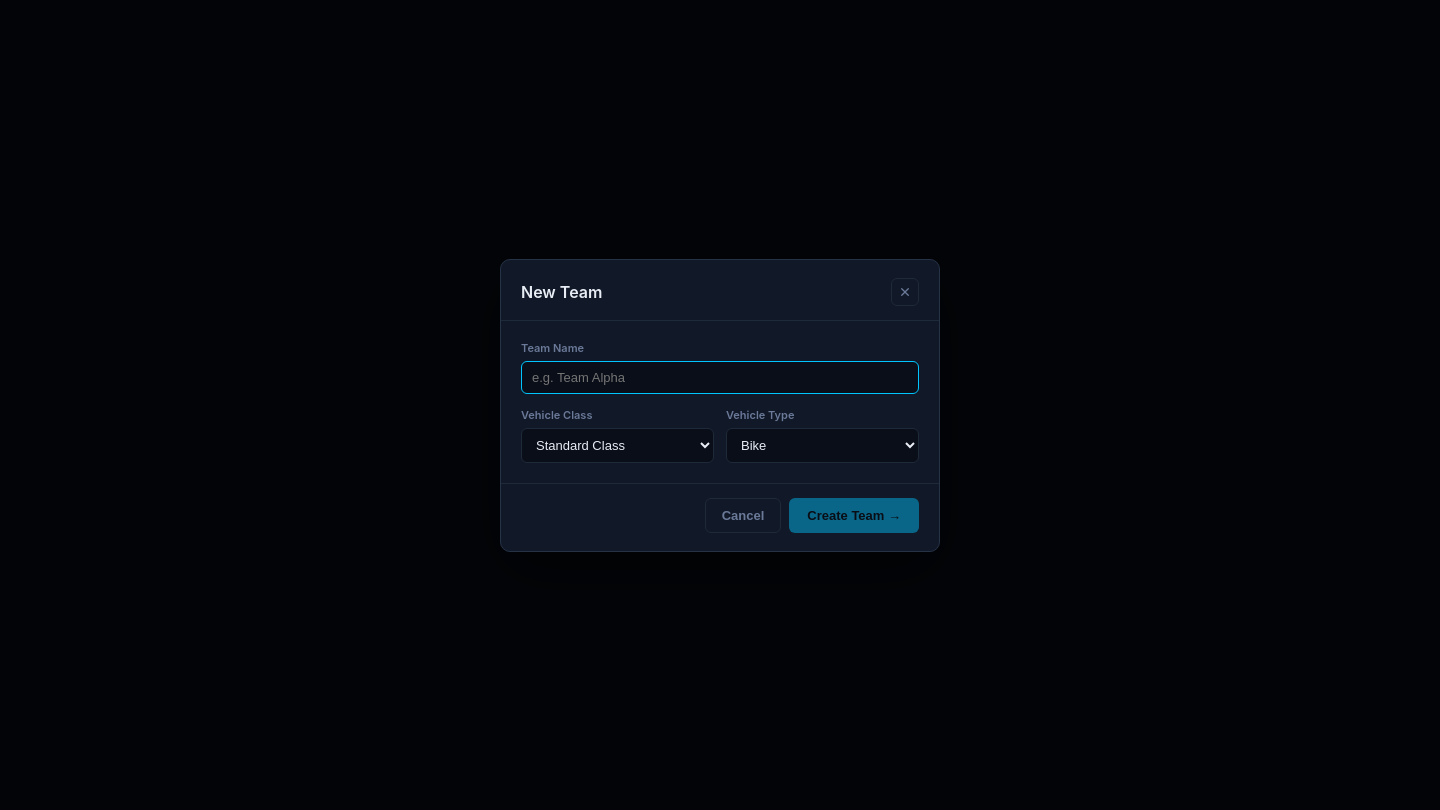
Test: CreateTeamModal — submission › shows error message when creation fails
Type "Team Gamma" into the field with placeholder "e.g. Team Alpha" at (720, 377), box [521,360,919,394]
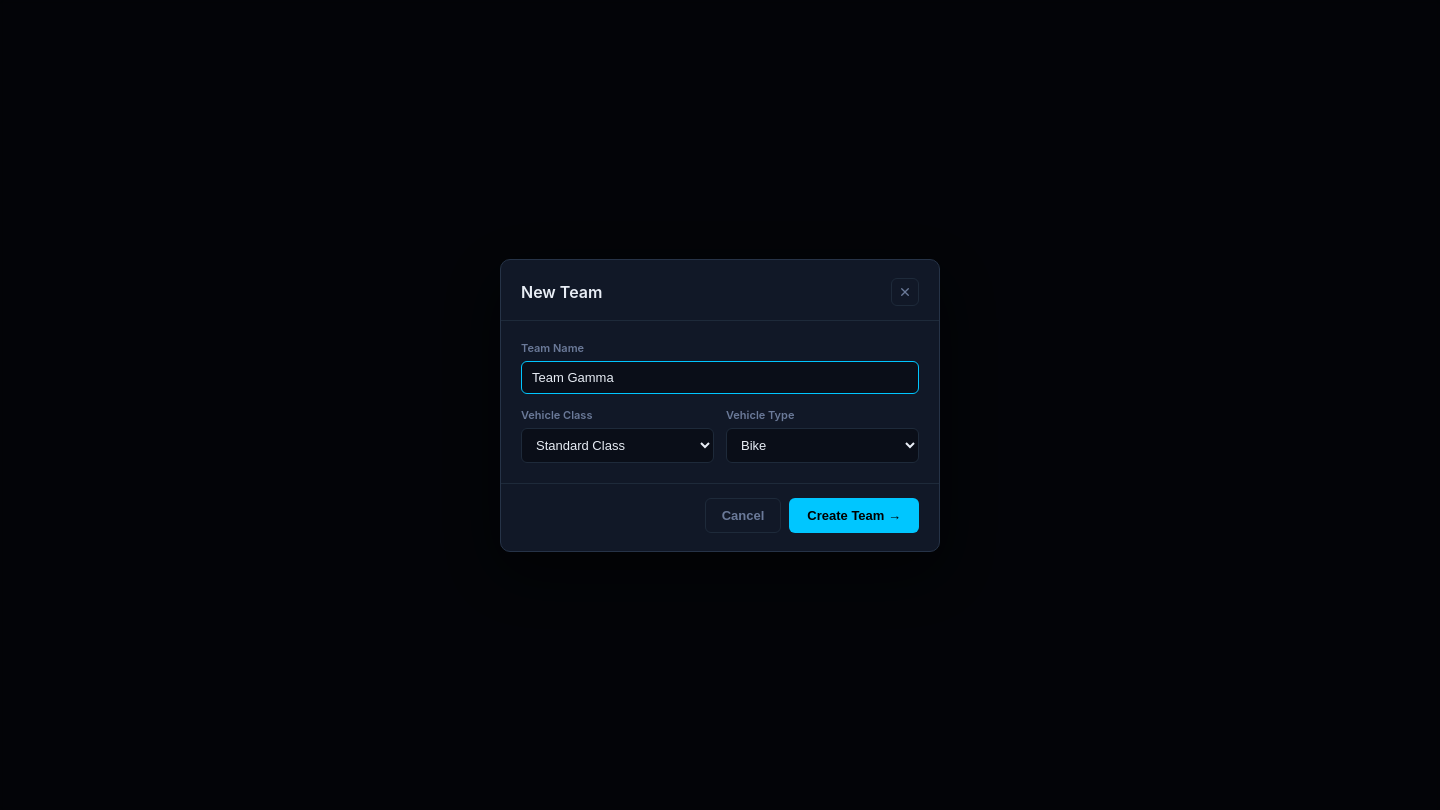
Click the button "Create Team →" at (854, 515), box [789,498,919,532]
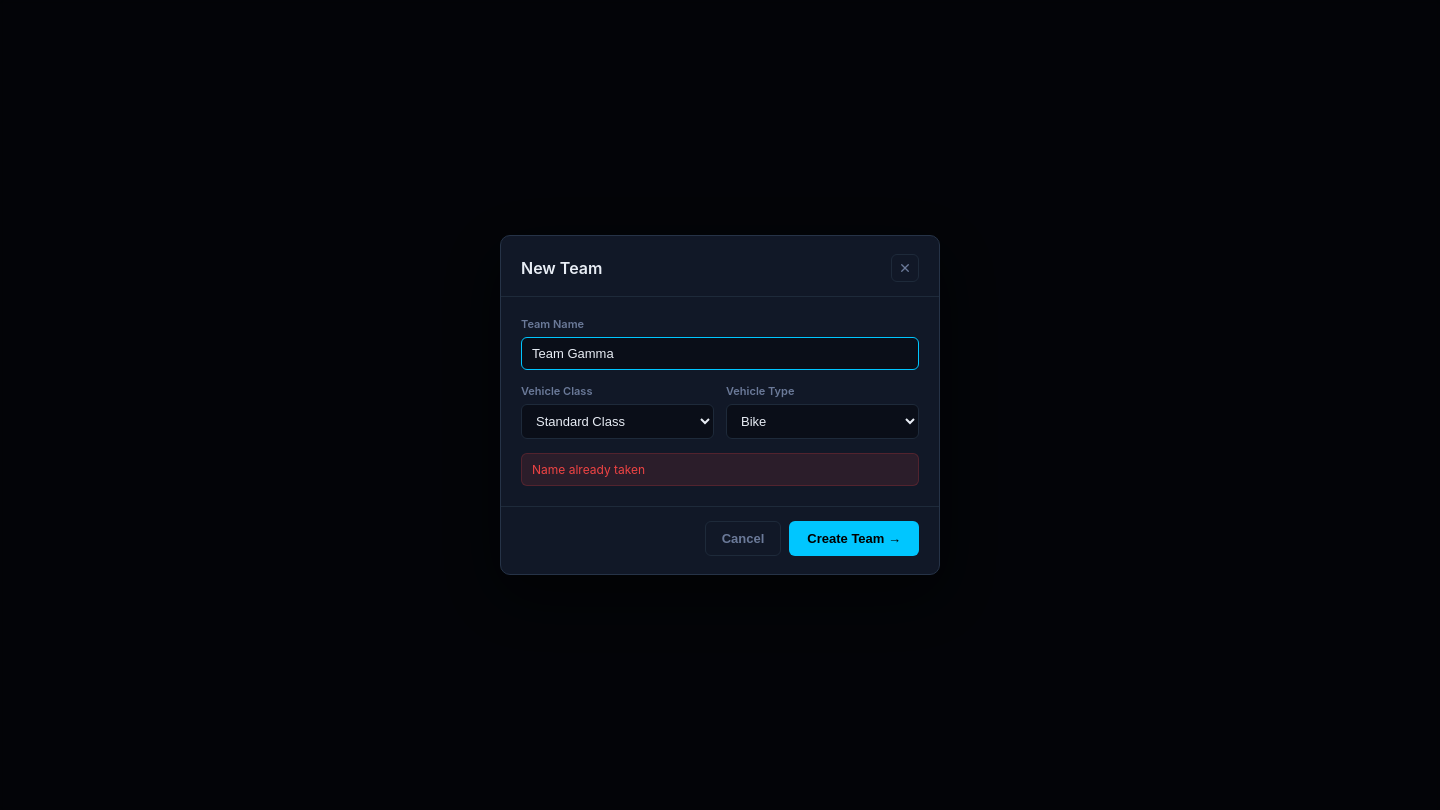
Expected: the text "Name already taken" is shown, [521,453,919,486]
